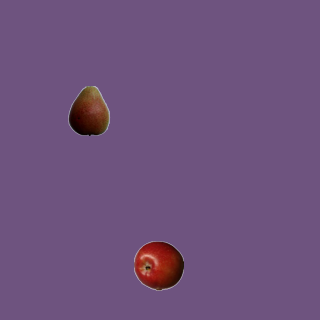Apple Braeburn: (133, 240, 183, 290)
Pear Forelle: (63, 85, 113, 135)
